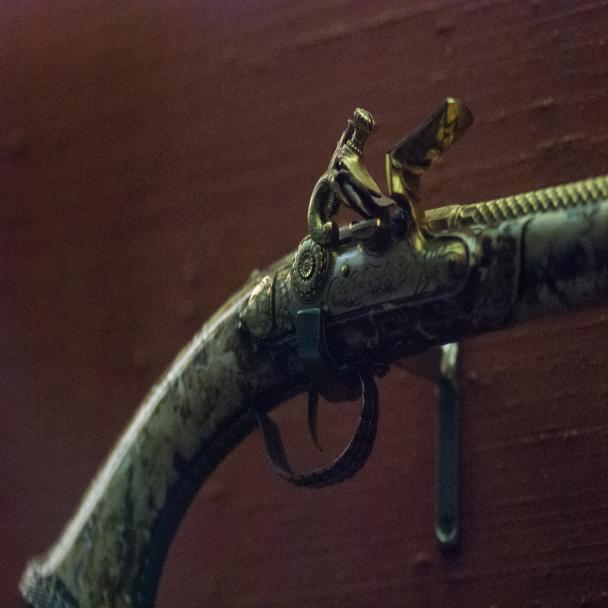Gun: (10, 89, 607, 607)
